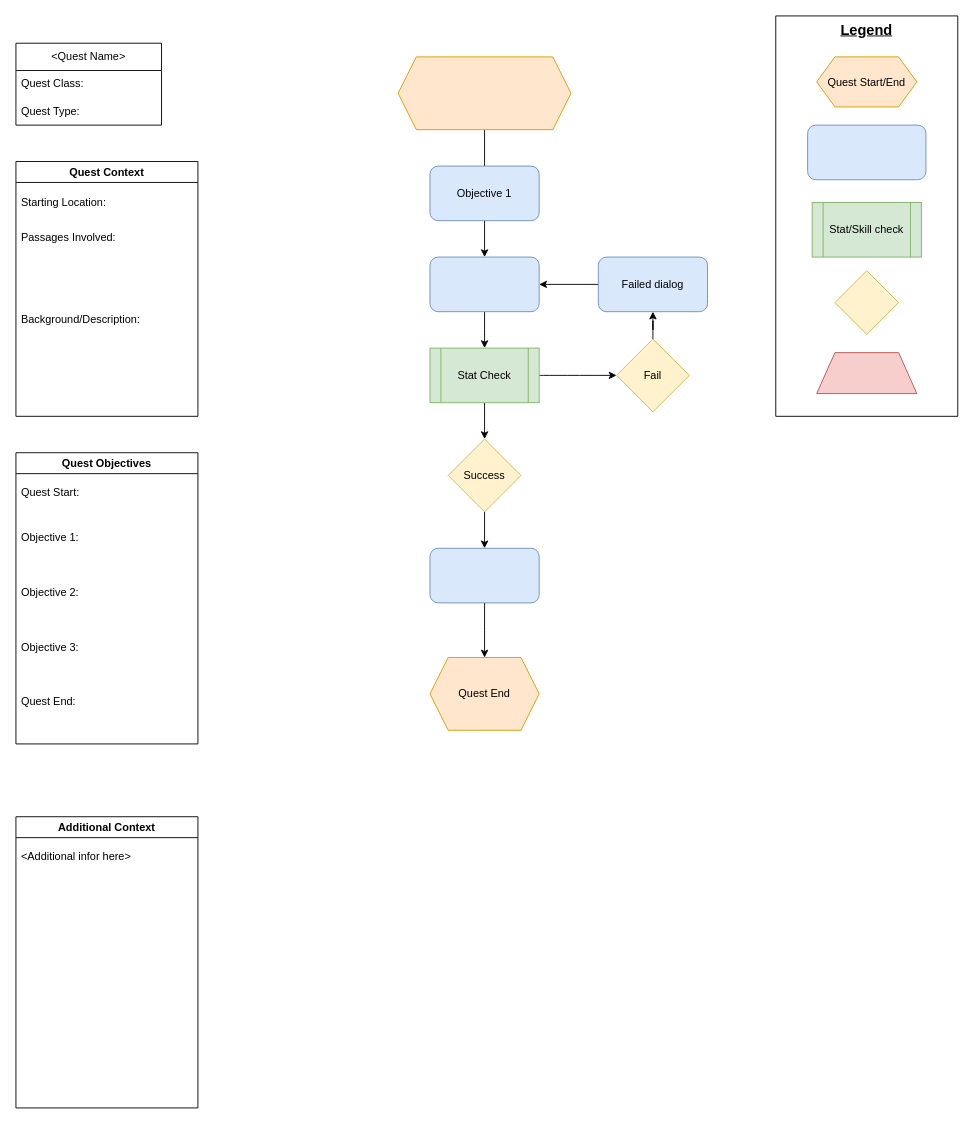
This 974x1127 diagram has some shape labels left out. Here are the shapes that lost their labels. From the top down, the centre of each, then its label:
point 484,93: Quest Start
point 866,152: Step/Objective Context/Dialog
point 484,284: Objective 2
point 866,302: Result
point 866,373: Encounter
point 484,575: Objective 3
